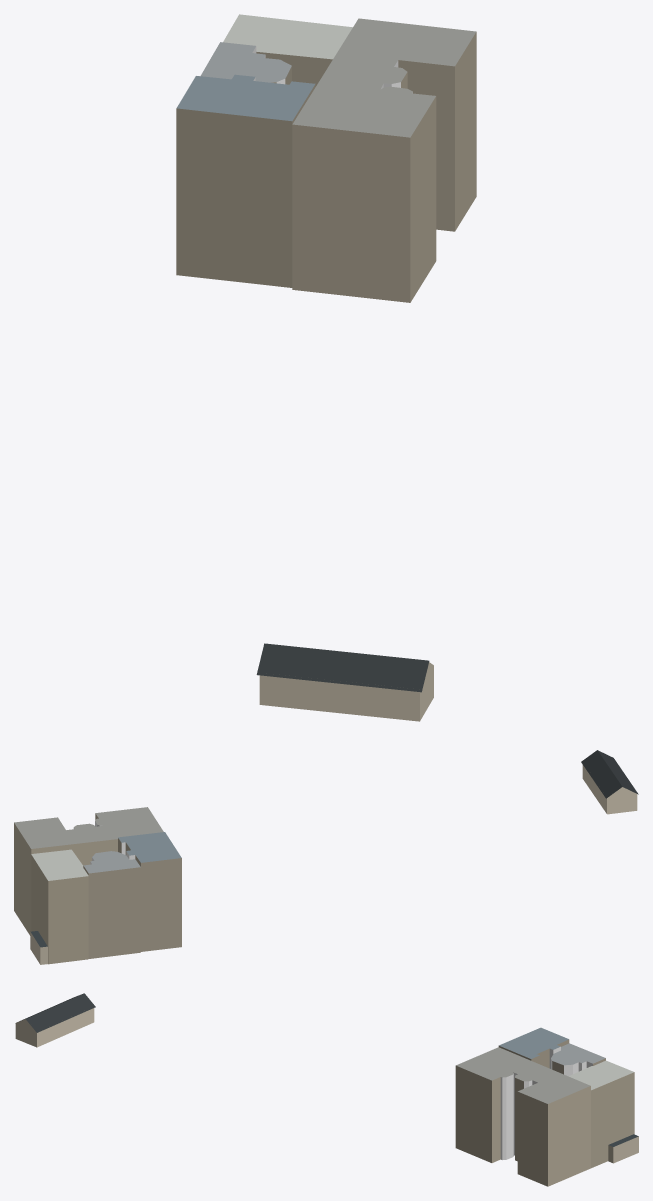
3 renders of one model, top to bottom at view 1: azimuth 30°, elevation 25°; view 2: azimuth 150°, elevation 25°; view 3: azimuth 270°, elevation 25°, orthographic. The views are drawn at different scales.
Visible parts, largest first — view 1: tuile; view 2: tuile; view 3: tuile.
Boxes of the visible parts, x1,y1,x2,y2 form: tuile: [176, 14, 476, 721]; tuile: [14, 750, 638, 964]; tuile: [15, 993, 638, 1186].
Bounding box in the file's own units: 108 × 25.18 × 169.
